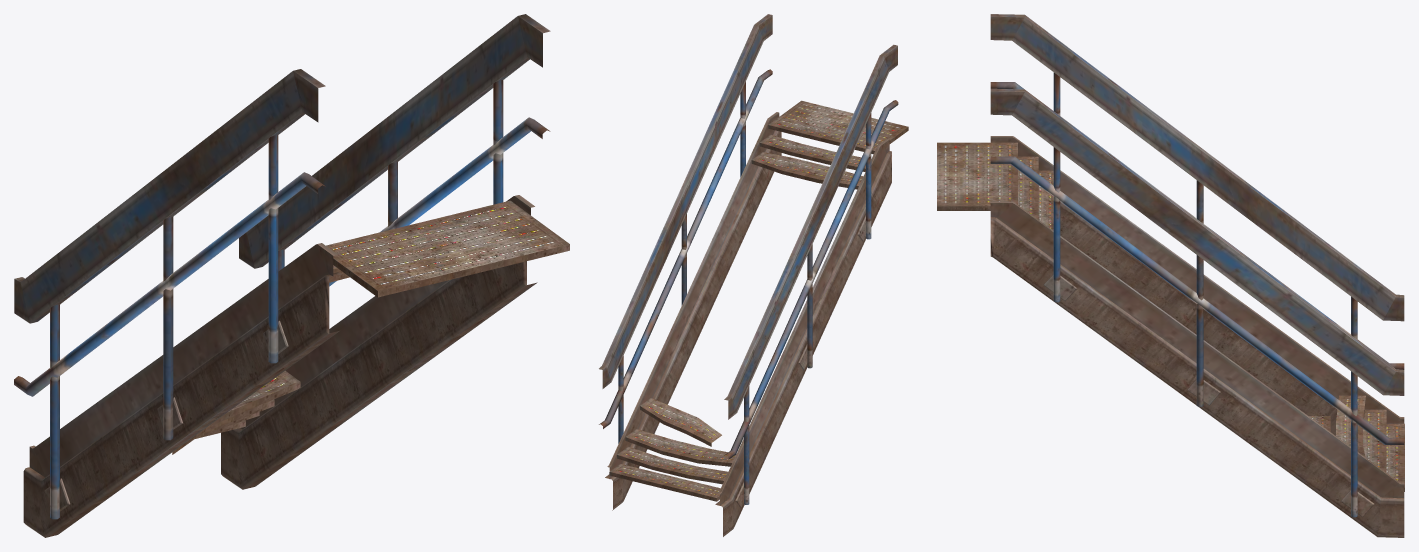
The model's file is rocket_factory_stairs_dmg.glb.
The picture shows the model from 3 angles, left to right: view 1: azimuth 30°, elevation 25°; view 2: azimuth 150°, elevation 25°; view 3: azimuth 270°, elevation 25°; orthographic projection. The views are drawn at different scales.
Parts seen in each view (by area): view 1: rocket_factory_stairs_dmg; view 2: rocket_factory_stairs_dmg; view 3: rocket_factory_stairs_dmg.
Part boxes in pixels (left/top/right/bottom): rocket_factory_stairs_dmg: left=14, top=14, right=569, bottom=537; rocket_factory_stairs_dmg: left=599, top=14, right=908, bottom=536; rocket_factory_stairs_dmg: left=937, top=14, right=1404, bottom=537.
Size of the model in its own units: 1.77 by 4.8 by 4.52.
Materials: 1 (1 with a texture image).
